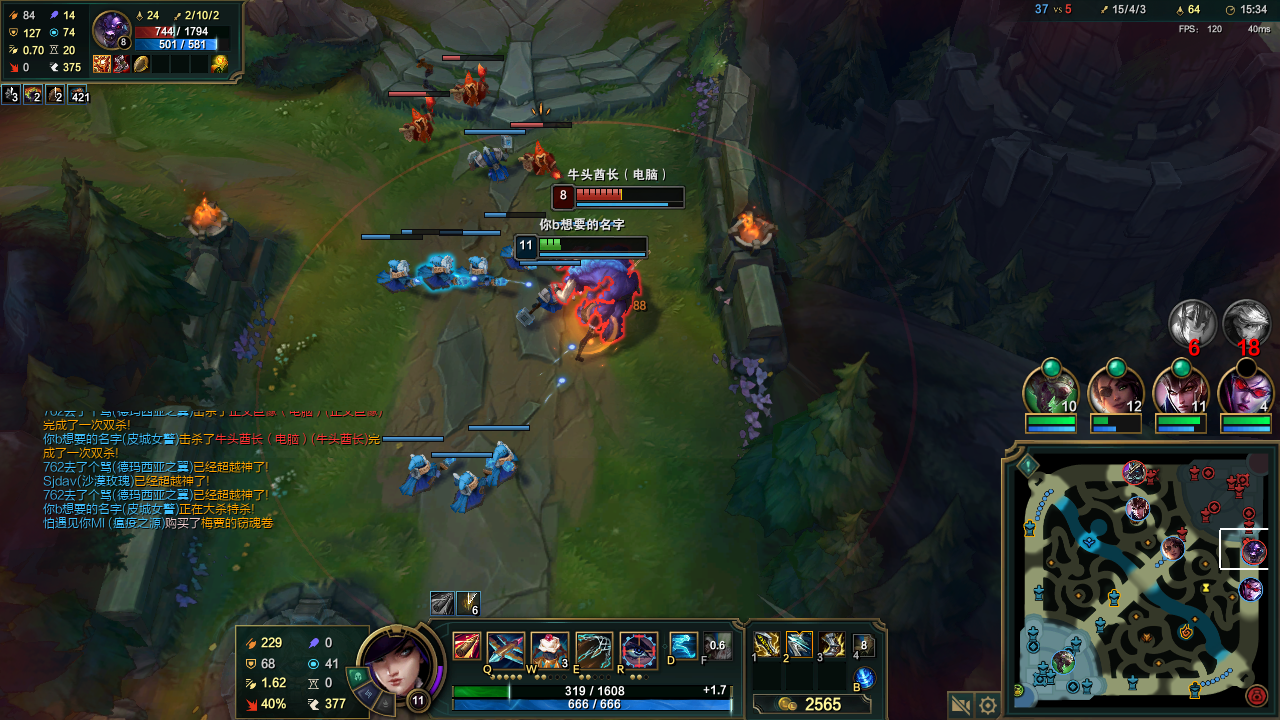DFXB: (396, 108, 438, 148), (520, 139, 552, 169), (452, 74, 487, 101)
DFYX: (567, 188, 661, 201)
WFXB: (394, 452, 441, 492), (424, 253, 466, 296), (486, 445, 524, 483), (473, 144, 507, 180), (378, 263, 416, 293), (451, 470, 482, 504), (463, 252, 490, 287), (499, 246, 517, 270)
